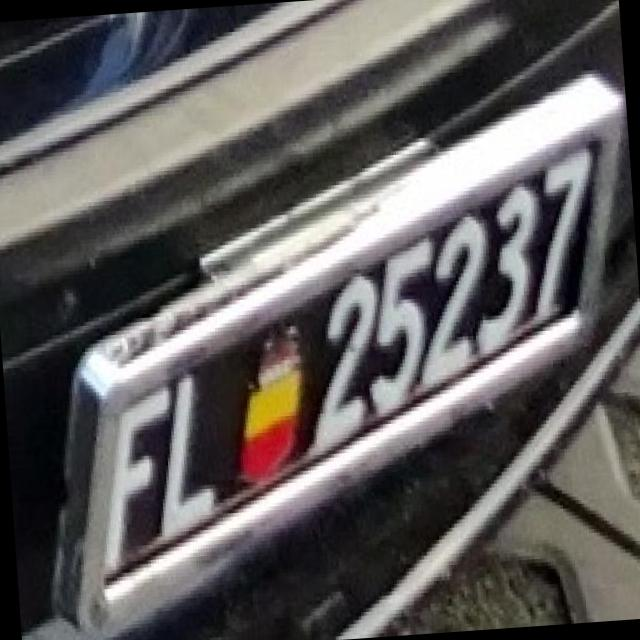2: (285, 256, 389, 456), (404, 193, 497, 377)
3: (458, 160, 554, 354)
4: (137, 356, 240, 545)
5: (352, 226, 443, 414)
7: (510, 136, 606, 324)
F: (84, 372, 185, 564)
